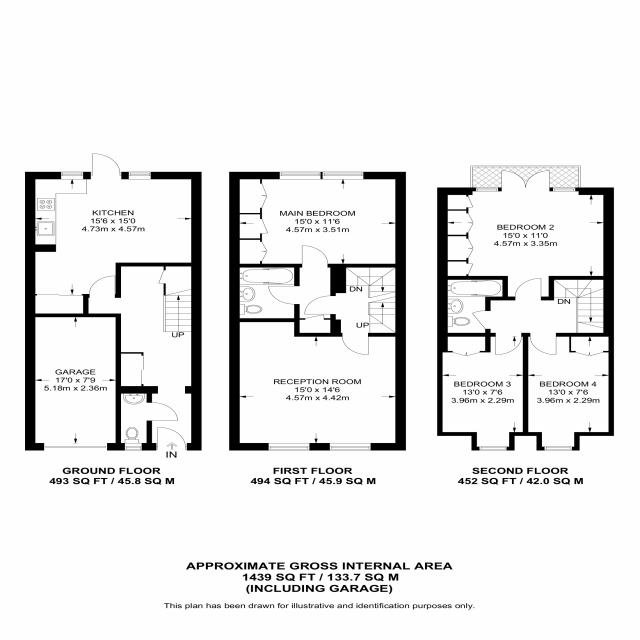DOOR: (90, 153, 122, 179), (155, 427, 188, 450), (494, 333, 523, 356), (303, 295, 336, 315), (529, 333, 557, 356), (301, 245, 329, 268), (268, 285, 300, 305), (89, 275, 116, 298), (514, 278, 542, 300), (341, 333, 369, 355), (146, 402, 178, 421), (471, 310, 491, 330)
DOUBLE DOOR: (500, 169, 551, 192)
ROOM: (25, 153, 202, 317), (229, 318, 406, 451), (437, 170, 614, 301), (229, 172, 406, 268), (522, 332, 615, 451), (437, 332, 529, 451)
WINDOW: (328, 442, 372, 451), (267, 442, 310, 451), (279, 171, 321, 180), (322, 172, 364, 179), (128, 171, 151, 180), (60, 172, 84, 179), (124, 443, 142, 451), (544, 446, 572, 451), (479, 446, 507, 451), (552, 187, 576, 192), (476, 187, 498, 192)
